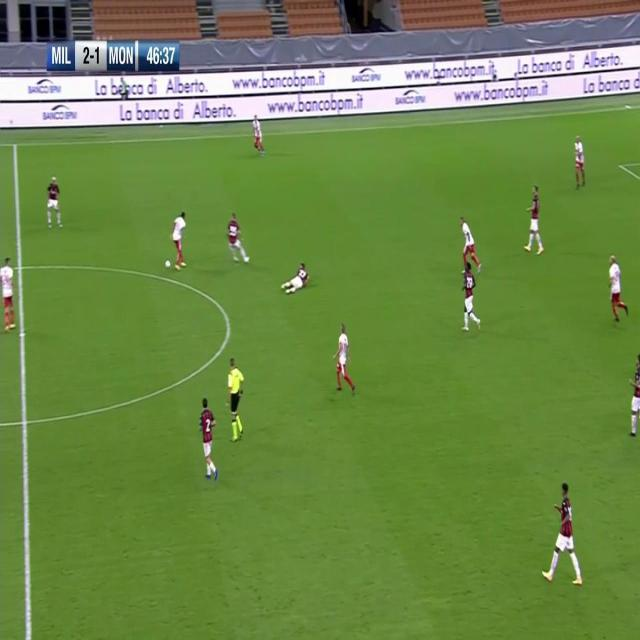ball: (164, 257, 172, 270)
player: (542, 487, 584, 591), (198, 397, 220, 480), (607, 254, 631, 324), (334, 324, 356, 396), (461, 261, 482, 335), (524, 183, 544, 257), (459, 215, 483, 274), (226, 211, 250, 264), (1, 255, 17, 333), (627, 355, 640, 441), (45, 172, 63, 232), (282, 260, 310, 298), (170, 210, 188, 268), (573, 134, 587, 190), (251, 113, 267, 155)
referee: (226, 356, 246, 442)
